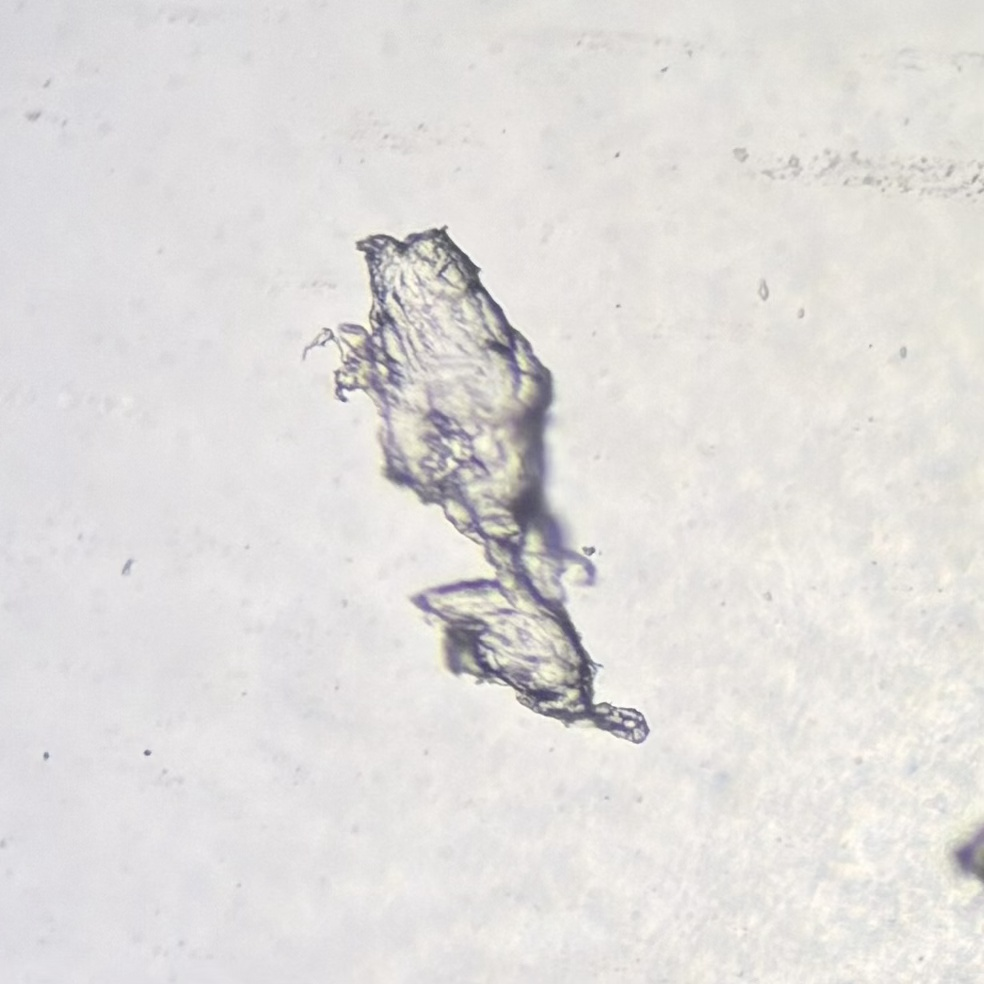microplastic: (297, 232, 649, 744), (947, 814, 984, 886)
